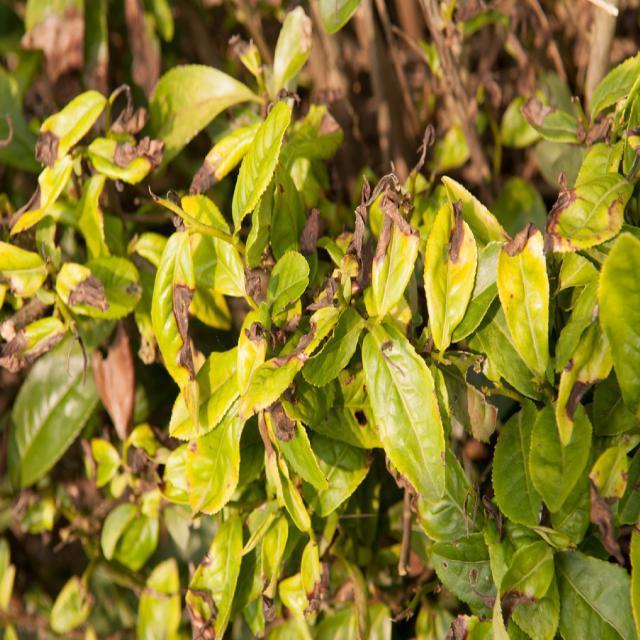Tea cloud leaf blight: (244, 389, 310, 465), (161, 282, 204, 382), (374, 195, 418, 279), (58, 261, 110, 331), (503, 186, 545, 267), (545, 178, 587, 256), (269, 328, 332, 377), (446, 174, 475, 273)
